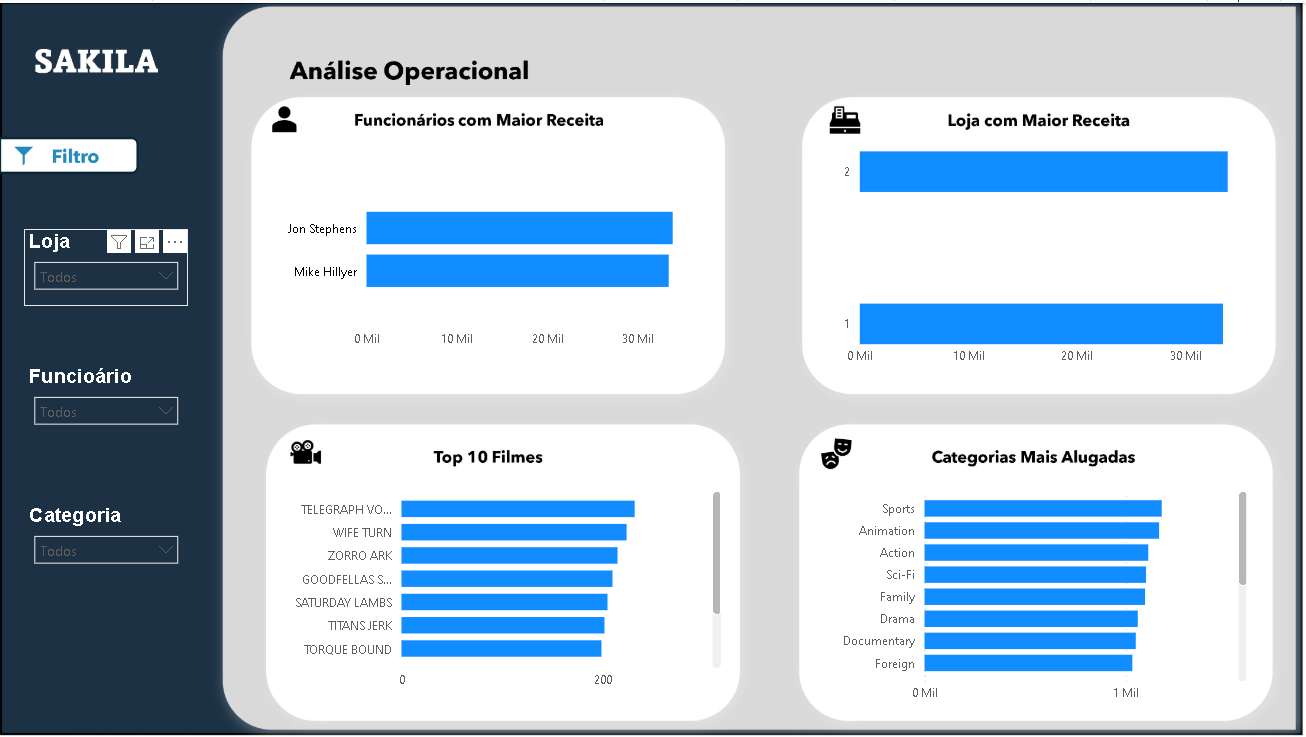

The page's visual inventory and layout, read from the dashboard file:
{"tool":"powerbi","page":{"name":"Página 3","canvas":[1280,720],"ordinal":2},"visuals":[{"type":"barChart","fields":{"Y":["Sum(sakila vw_desempenho_funcionarios.Total_recebido)"],"Category":["sakila vw_desempenho_funcionarios.Nome_Completo"]},"box":[268.4,152.7,417.3,190.6],"z":0},{"type":"barChart","fields":{"Category":["sakila vw_receita_por_loja.store_id"],"Y":["Sum(sakila vw_receita_por_loja.valor_total)"]},"box":[809.2,131.3,418.2,228.6],"z":1000},{"type":"barChart","fields":{"Category":["sakila vw_receita_filmes.title"],"Y":["Sum(sakila vw_receita_filmes.filmes_mais_vendidos)"]},"box":[268.4,462,438.7,213],"z":2000},{"type":"barChart","fields":{"Category":["sakila vw_categorias_mais_alugadas.name"],"Y":["Sum(sakila vw_categorias_mais_alugadas.categorias_mais_alugadas)"]},"box":[809.2,462,409.5,225.7],"z":3000},{"type":"slicer","title":"Funcioário","fields":{"Values":["sakila vw_desempenho_funcionarios.Nome_Completo"]},"box":[24,351.5,160.3,75.1],"z":5000},{"type":"slicer","title":"Loja","fields":{"Values":["sakila vw_receita_por_loja.store_id"]},"box":[24,219.3,160.3,75.1],"z":6000},{"type":"slicer","title":"Categoria","fields":{"Values":["sakila vw_categorias_mais_alugadas.name"]},"box":[24,486.8,160.3,75.1],"z":7000}]}

Visuals, with their boxes on the page's 1280x720 design canvas (x1, y1, x2, y2). These are canvas units, not pixel positions in the 1306x737 screenshot, which may show the page scaled, cropped or inside an application window:
barChart - Sum(sakila vw_desempenho_funcionarios.Total_recebido) x sakila vw_desempenho_funcionarios.Nome_Completo: 268, 153, 686, 343
barChart - sakila vw_receita_por_loja.store_id x Sum(sakila vw_receita_por_loja.valor_total): 809, 131, 1227, 360
barChart - sakila vw_receita_filmes.title x Sum(sakila vw_receita_filmes.filmes_mais_vendidos): 268, 462, 707, 675
barChart - sakila vw_categorias_mais_alugadas.name x Sum(sakila vw_categorias_mais_alugadas.categorias_mais_alugadas): 809, 462, 1219, 688
"Funcioário" slicer: 24, 352, 184, 427
"Loja" slicer: 24, 219, 184, 294
"Categoria" slicer: 24, 487, 184, 562
